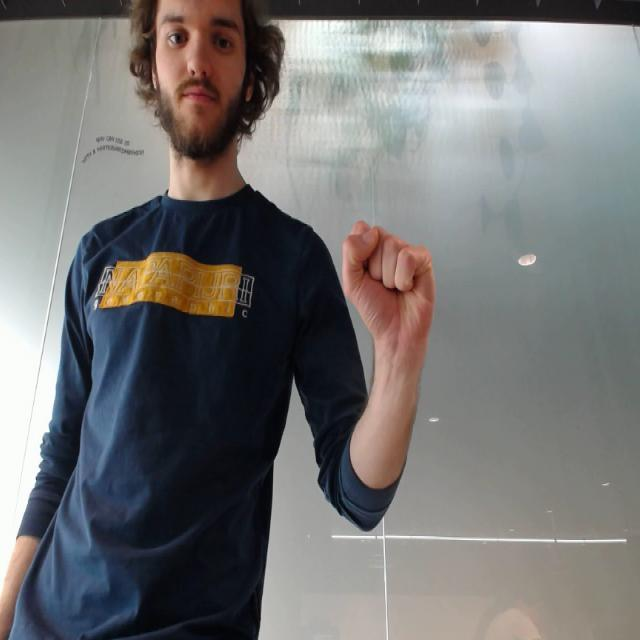stop: (338, 214, 440, 350)
